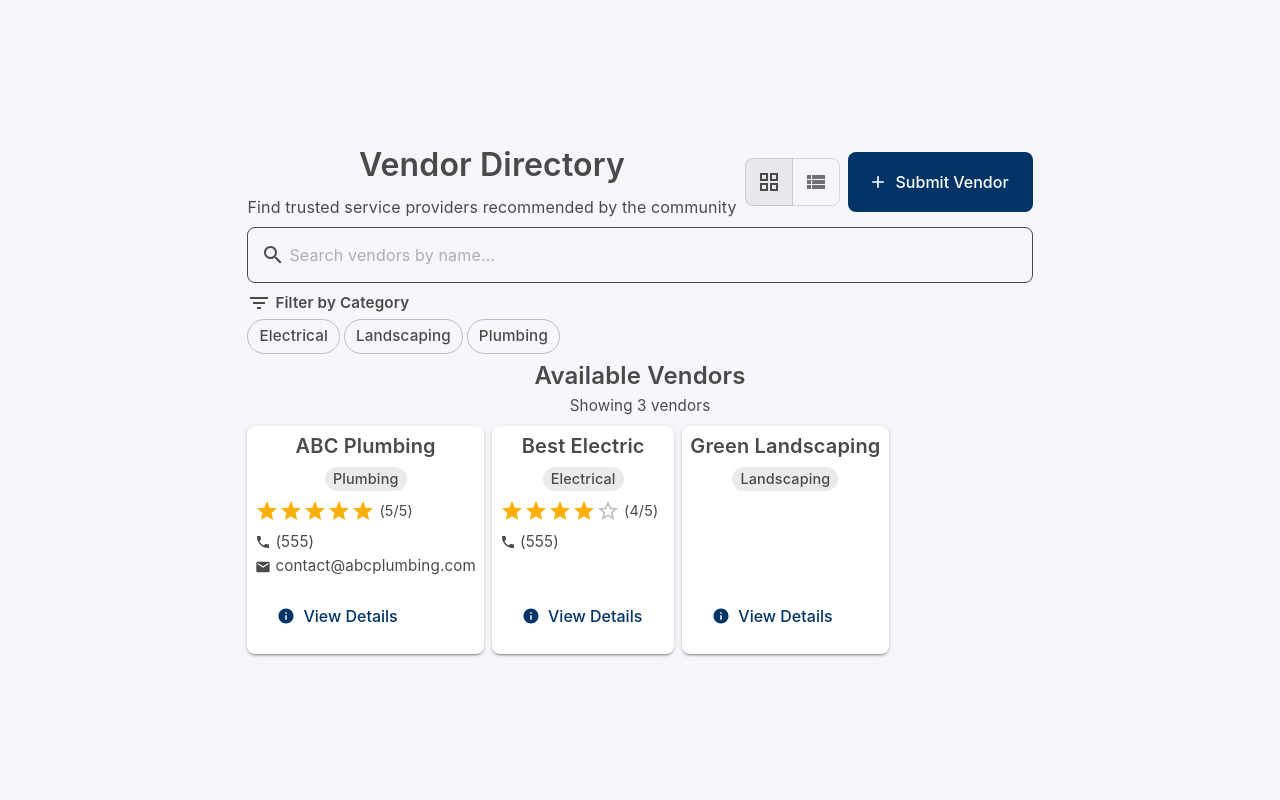
VendorsPage › Member User Scope › opens vendor submission form when "Submit Vendor" clicked
Click the button "Submit Vendor" at {"x": 940, "y": 182}, box [848,152,1032,212]
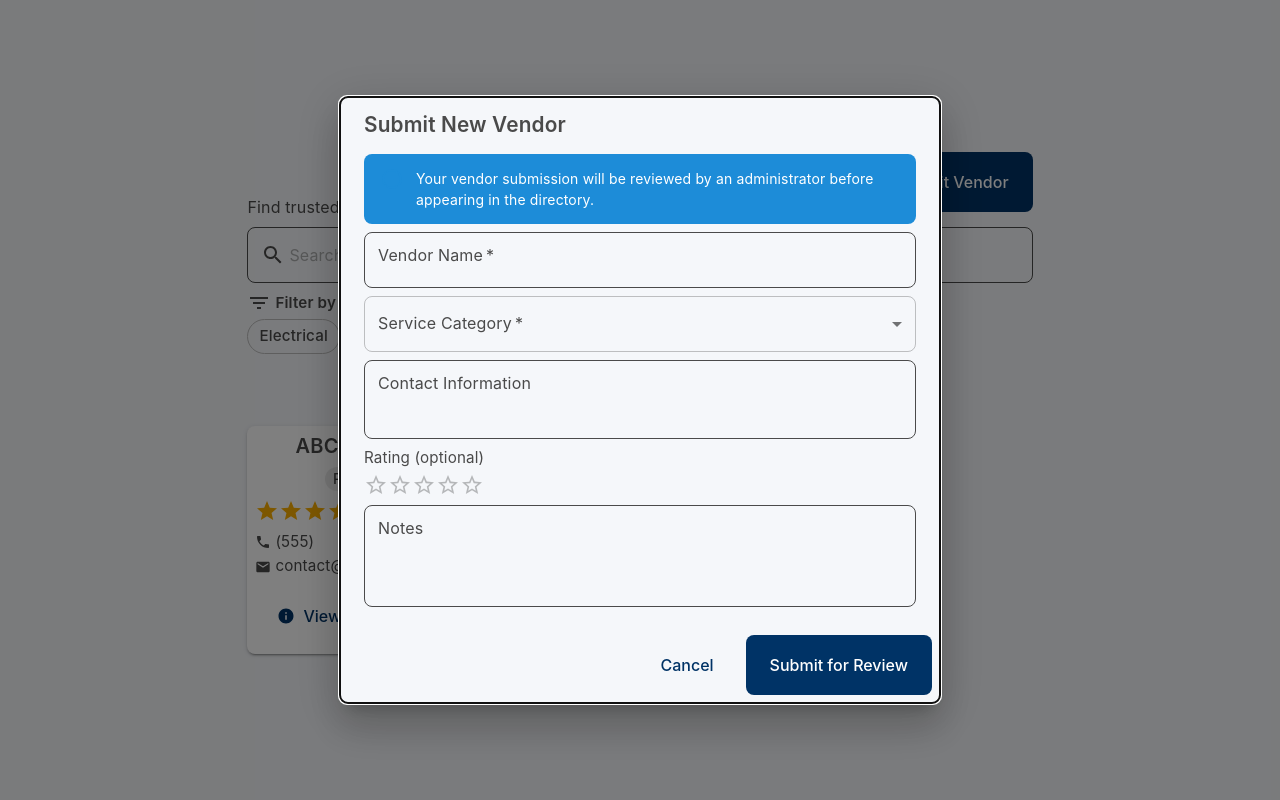
Expected: the dialog is shown, [340,97,940,703]
Expected: the heading "Submit New Vendor" is shown, [364,112,566,137]
